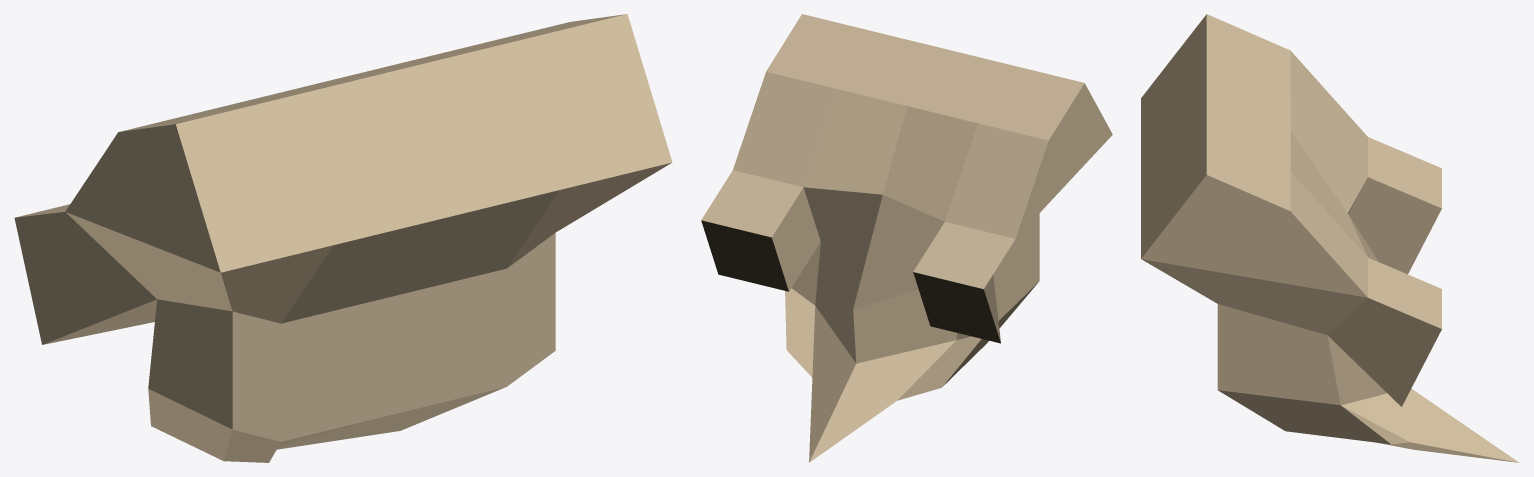
The model's file is H-ENGINE.fbx.
3 views of the same model, side by side, from view 1: azimuth 30°, elevation 25°; view 2: azimuth 150°, elevation 25°; view 3: azimuth 270°, elevation 25° (orthographic). The views are drawn at different scales.
Visible parts, largest first — view 1: Cube; view 2: Cube; view 3: Cube.
Part boxes in pixels (box(x1,y1,x2,y2)): Cube: box(14, 14, 672, 462); Cube: box(701, 14, 1112, 462); Cube: box(1141, 14, 1519, 462).
Size of the model in its own units: 200 by 214 by 199.
